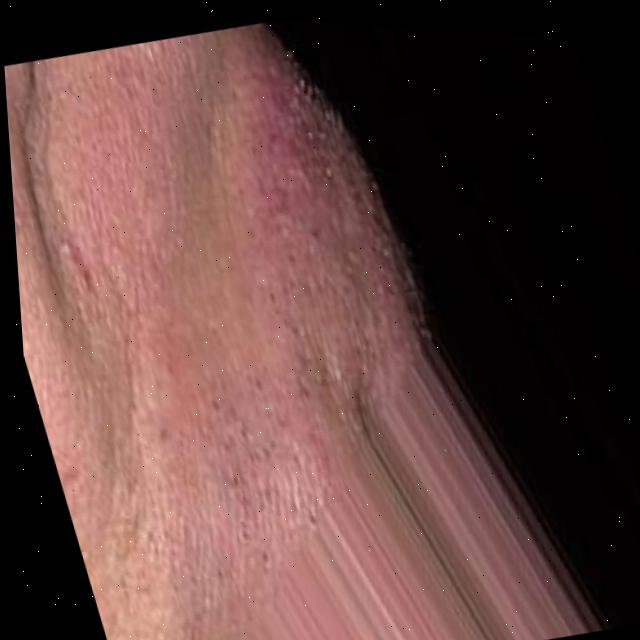Rosacea: (209, 45, 374, 300)
